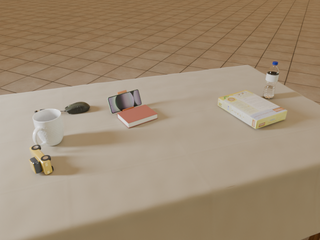book: (117, 105, 157, 128)
bottle: (263, 61, 279, 99)
box: (218, 90, 287, 129)
cup: (33, 109, 64, 146)
mouse: (65, 102, 90, 114)
phone: (107, 90, 142, 113)
toy_car: (29, 144, 53, 174)
